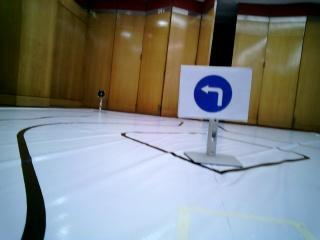left: (183, 65, 245, 118), (215, 159, 215, 160)
